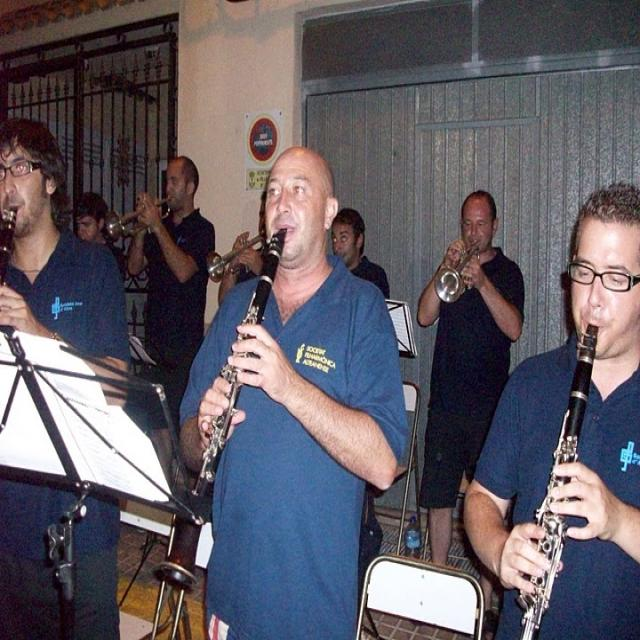clarinet: (174, 224, 295, 526), (515, 320, 608, 639), (0, 205, 28, 290)
